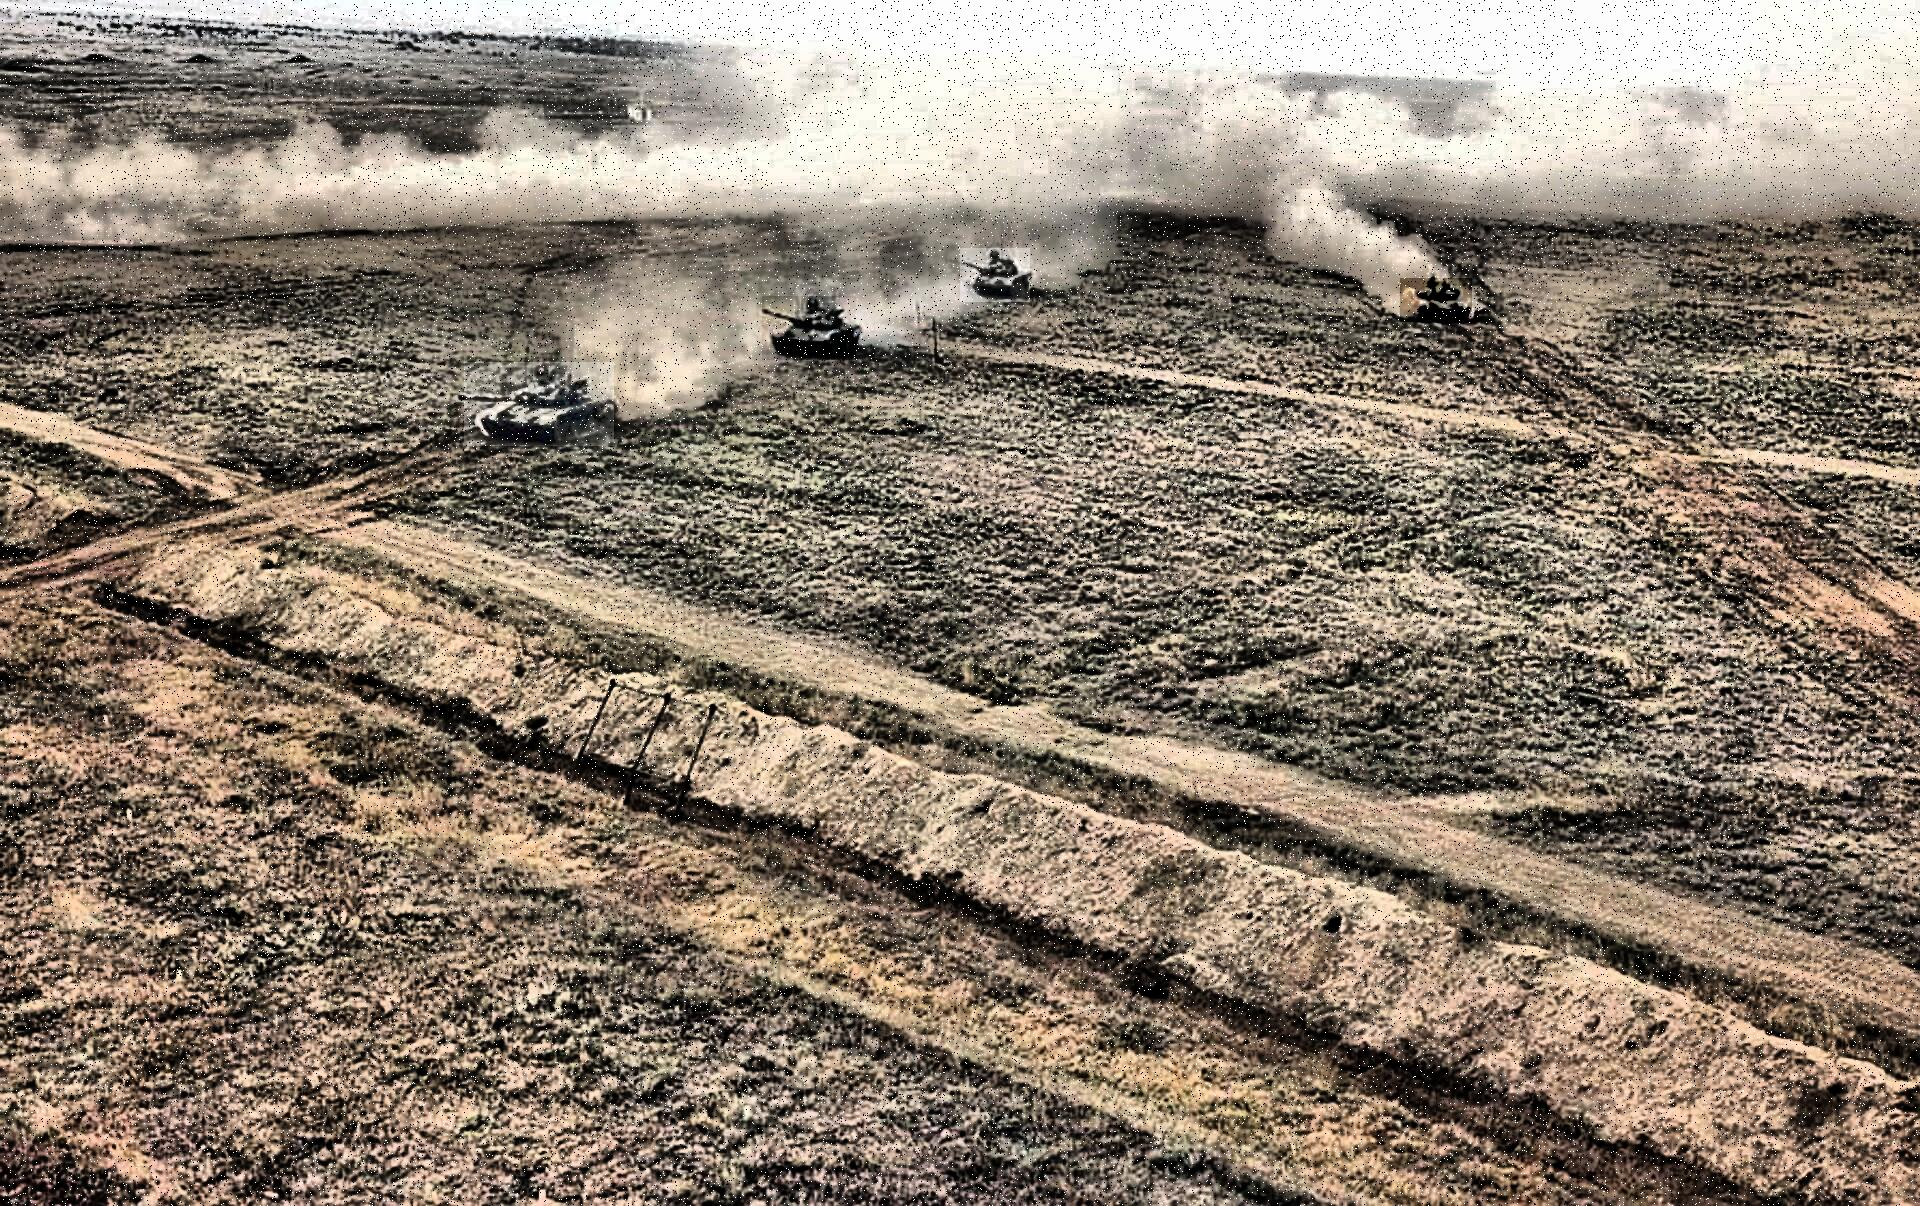military-vehicle: (464, 363, 614, 446), (761, 296, 856, 360), (960, 247, 1029, 301), (1400, 278, 1473, 322)
